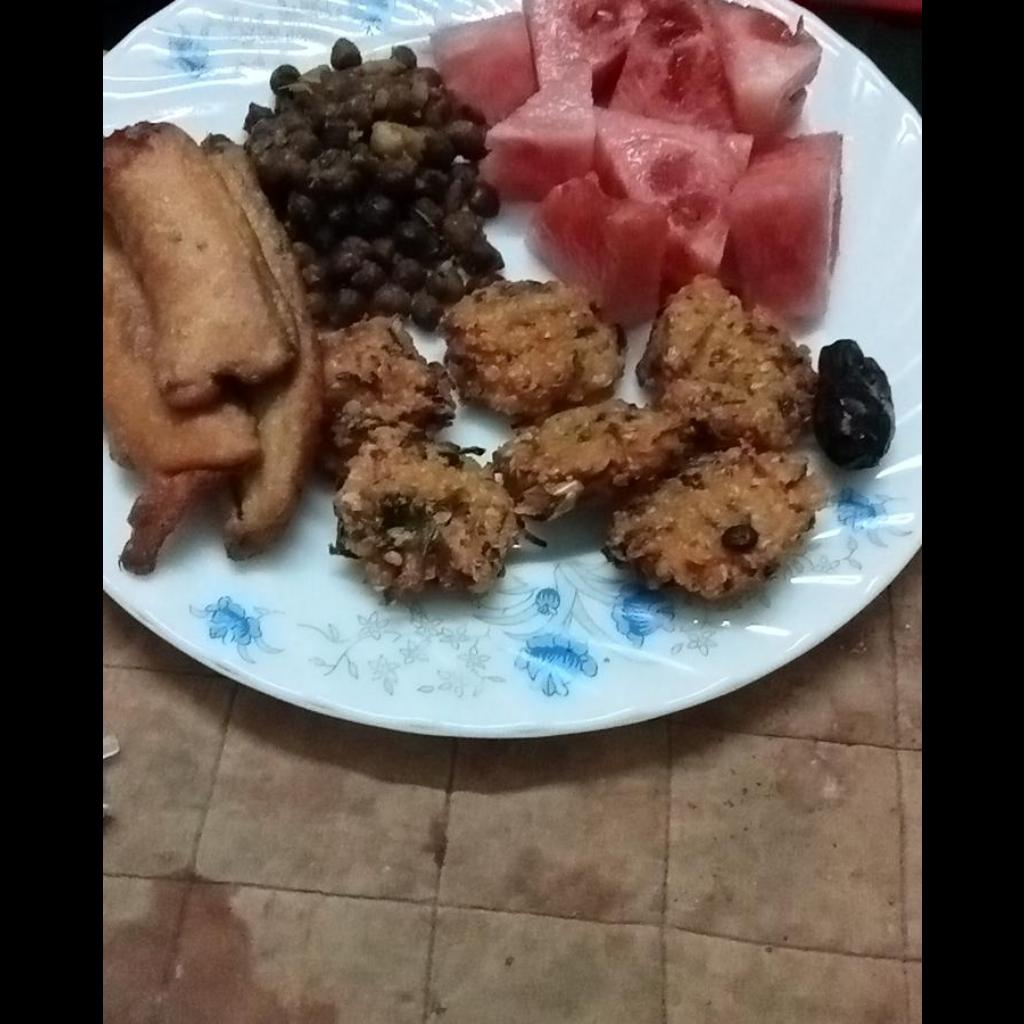beguni: (102, 119, 317, 567)
chola: (247, 34, 499, 331)
dates: (822, 338, 893, 471)
peyaju: (323, 269, 822, 603)
watermelon: (434, 0, 842, 329)
